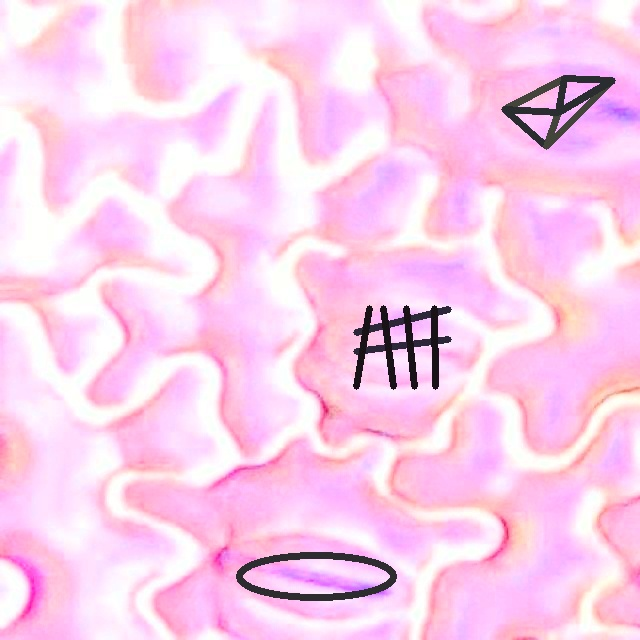open: (502, 75, 615, 148), (353, 306, 451, 389), (235, 551, 396, 601)
